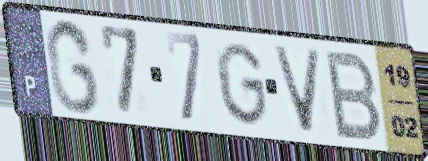7: (97, 21, 144, 119), (162, 27, 204, 128)
B: (324, 48, 385, 144)
G: (43, 16, 103, 117), (213, 40, 271, 129)
V: (269, 42, 325, 136)
